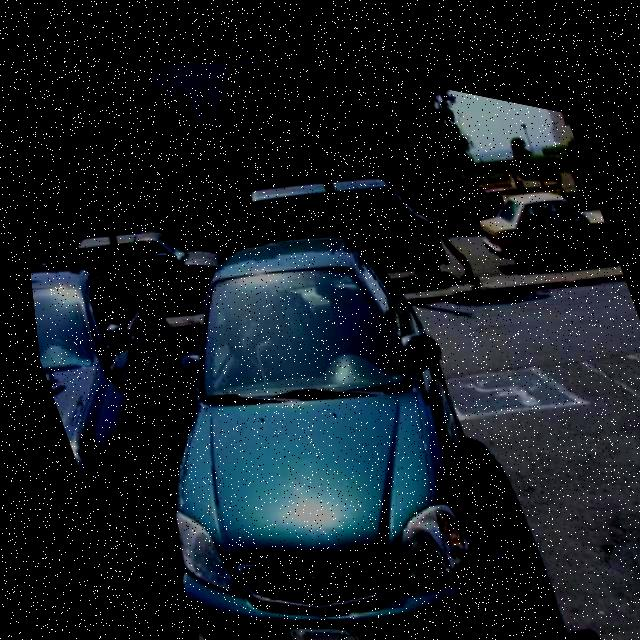license_plate: (271, 599, 365, 640), (483, 210, 491, 223)
